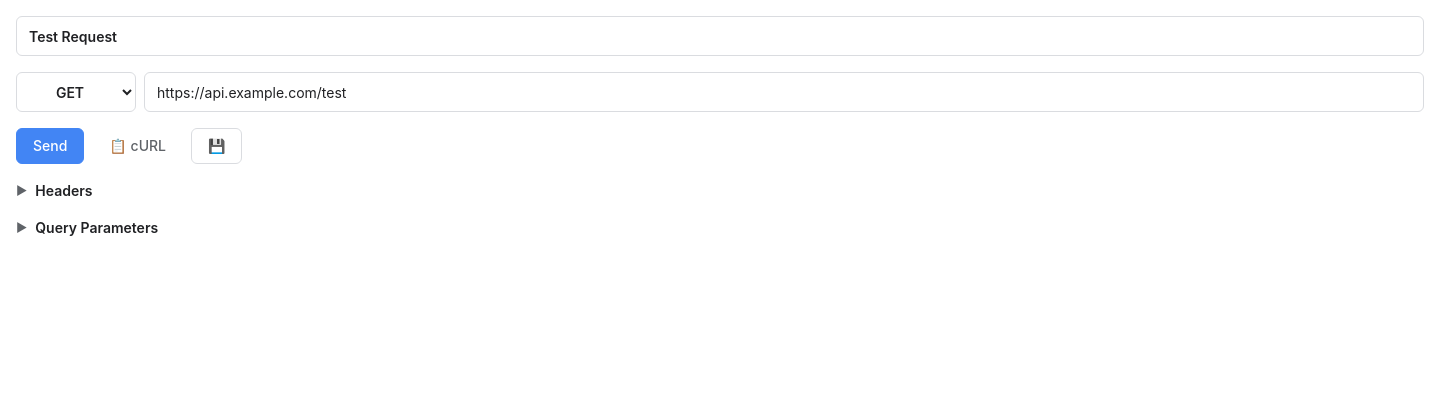
Test: URL and Query Parameters Synchronization › should update URL when query parameters are added
Expand query parameters section
Click the heading "▶ Query Parameters".
click(87, 228)  # box [16,219,158,236]
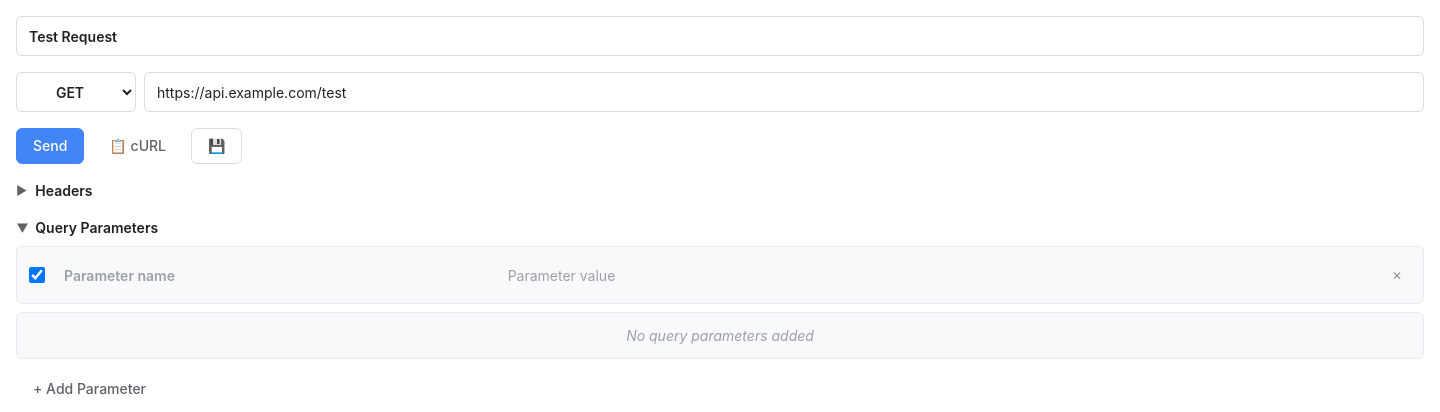
Type "page" into the field with placeholder "Parameter name".
click(276, 275); type("page")  # box [60,255,492,295]
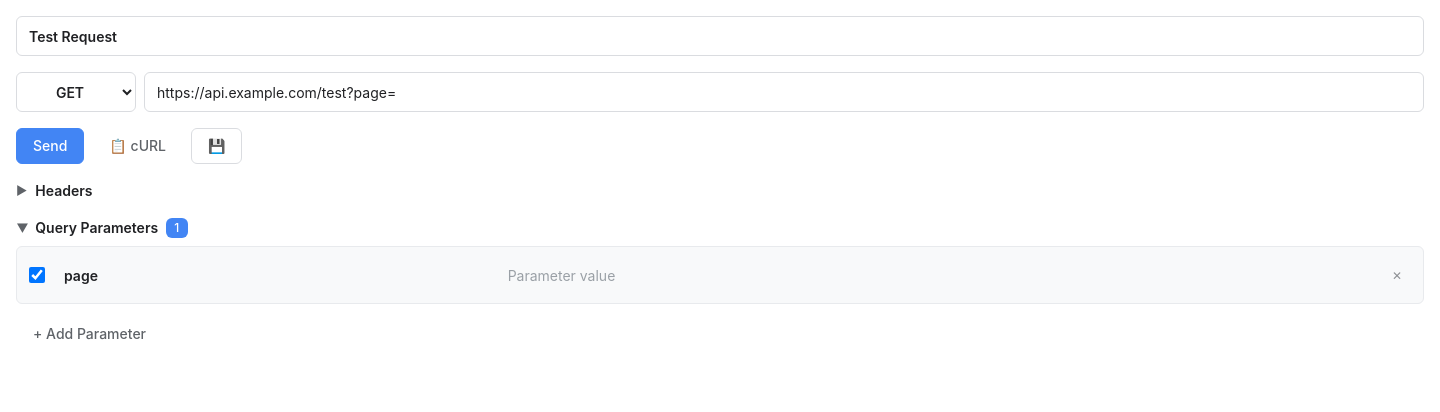
Type "1" into the field with placeholder "Parameter value".
click(935, 275); type("1")  # box [504,255,1367,295]
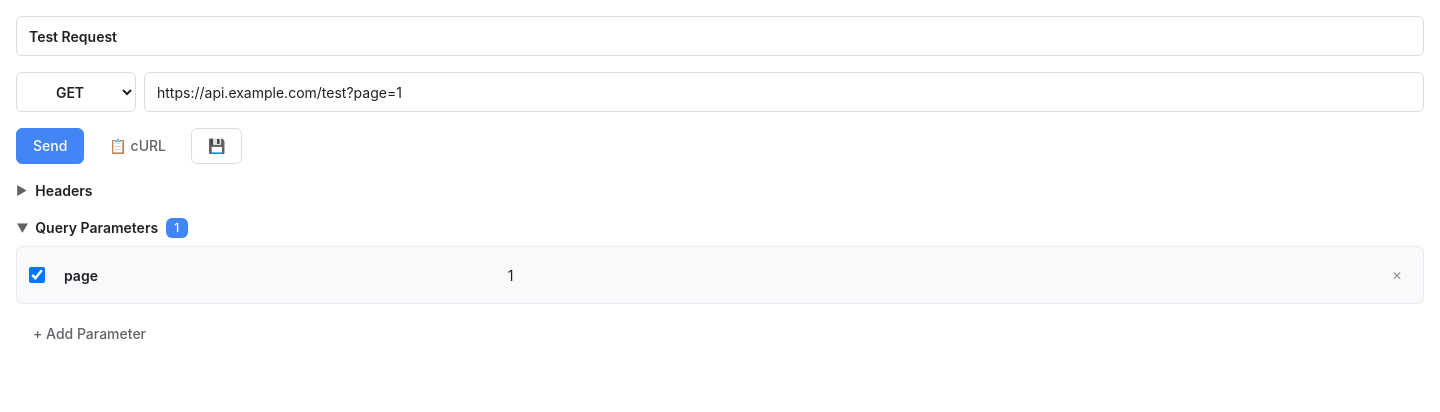
Check: the 2nd field showing "https://api.example.com/test?page=1" is shown, box [144,72,1424,112]
